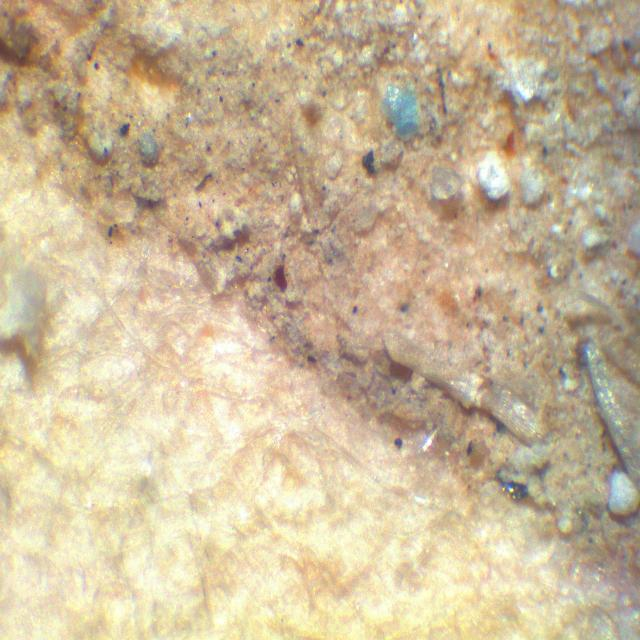microplastic: (382, 82, 419, 142)
